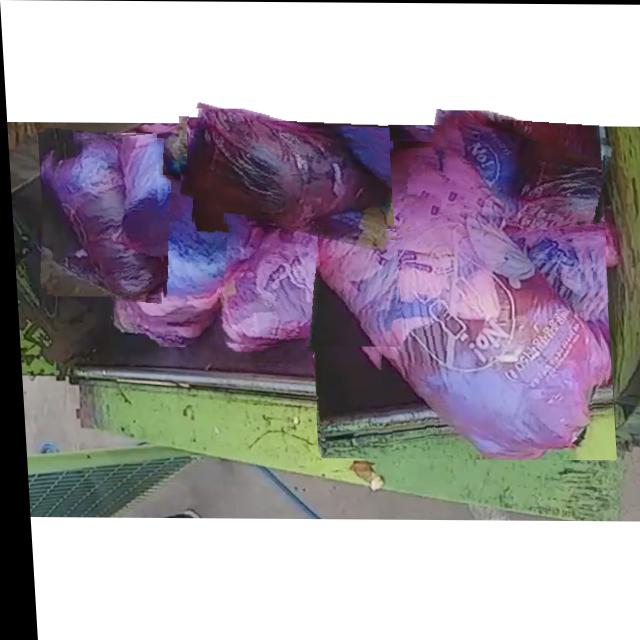other_trashbag: (305, 145, 600, 459), (178, 108, 390, 226), (108, 177, 251, 346), (216, 224, 393, 345), (47, 136, 158, 297), (454, 110, 601, 221)
